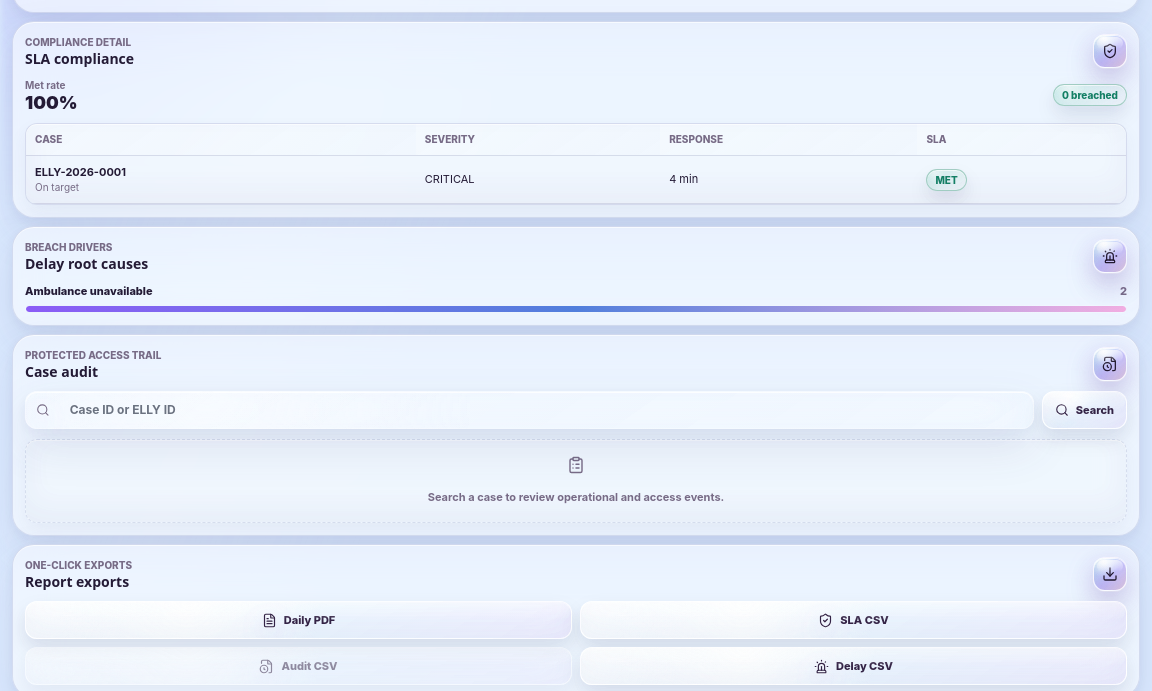
Test: Emergency command tabs › loads reports and searches an audit trail
The image size is (1152, 691).
(page scrolled)
Check: the text "ELLY-2026-0001" is shown, box x1=35 y1=165 x2=126 y2=179
Check: the text "Ambulance unavailable" is shown, box x1=25 y1=284 x2=153 y2=298
In the field named "Case audit search": (540, 410) x1=58 y1=393 x2=1023 y2=427, type "case-1"
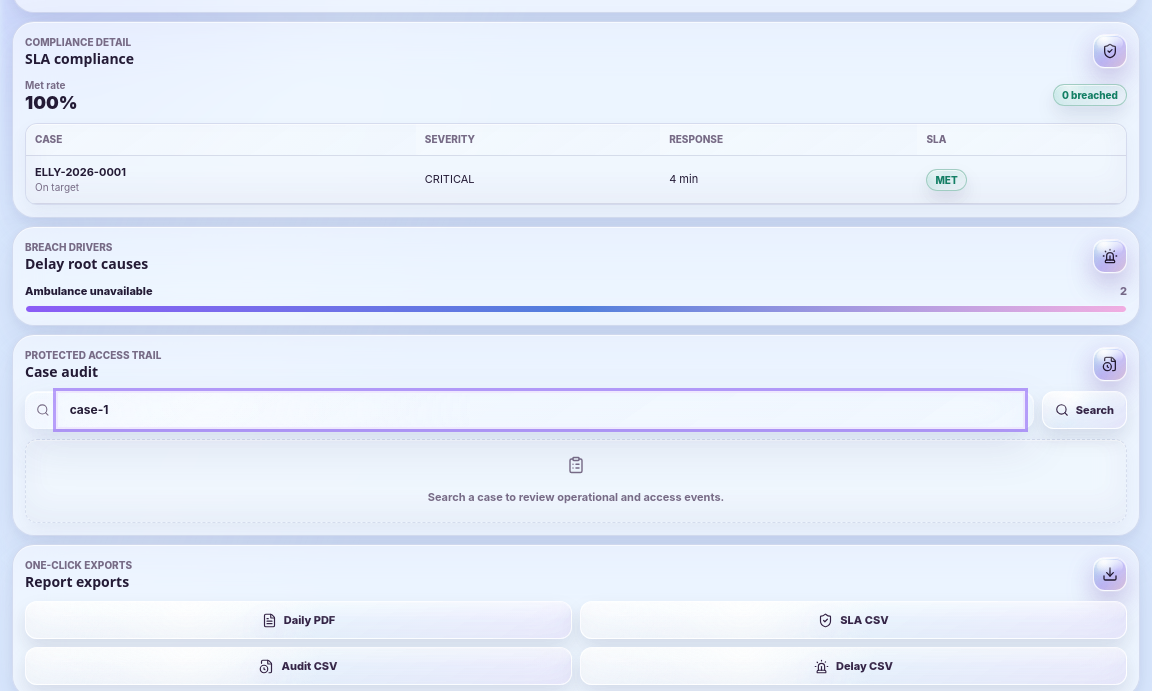
Click the button "Search": (1084, 410) x1=1042 y1=391 x2=1127 y2=429
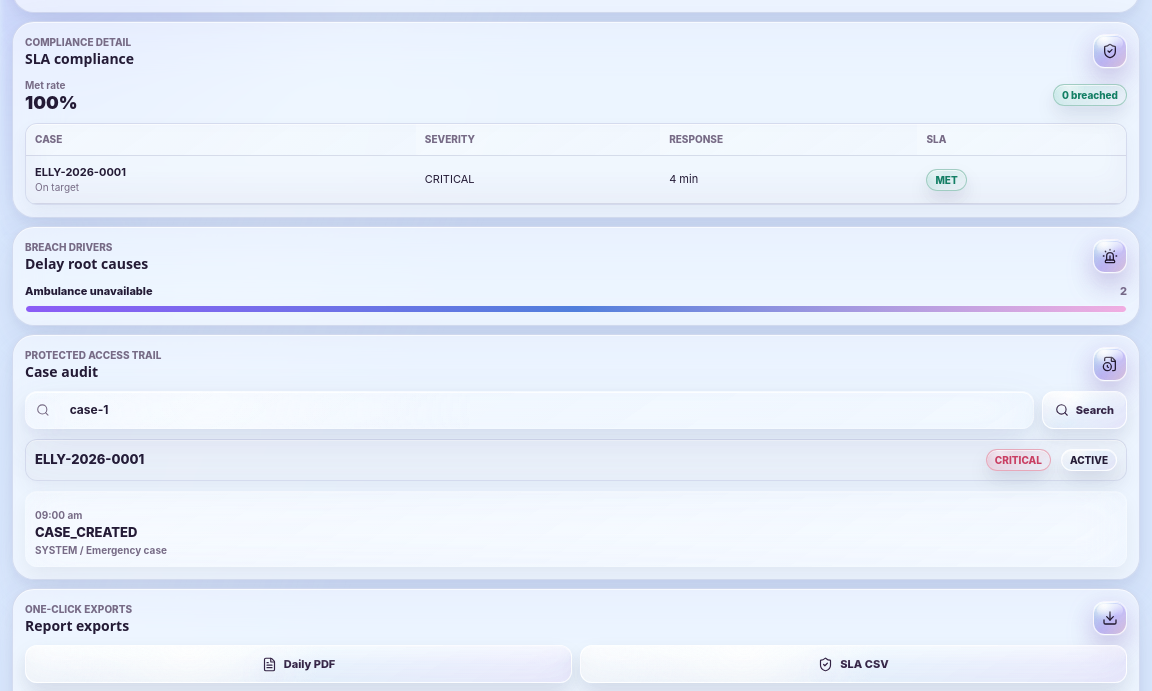
Check: the text "CASE_CREATED" is shown, box x1=35 y1=524 x2=138 y2=540
